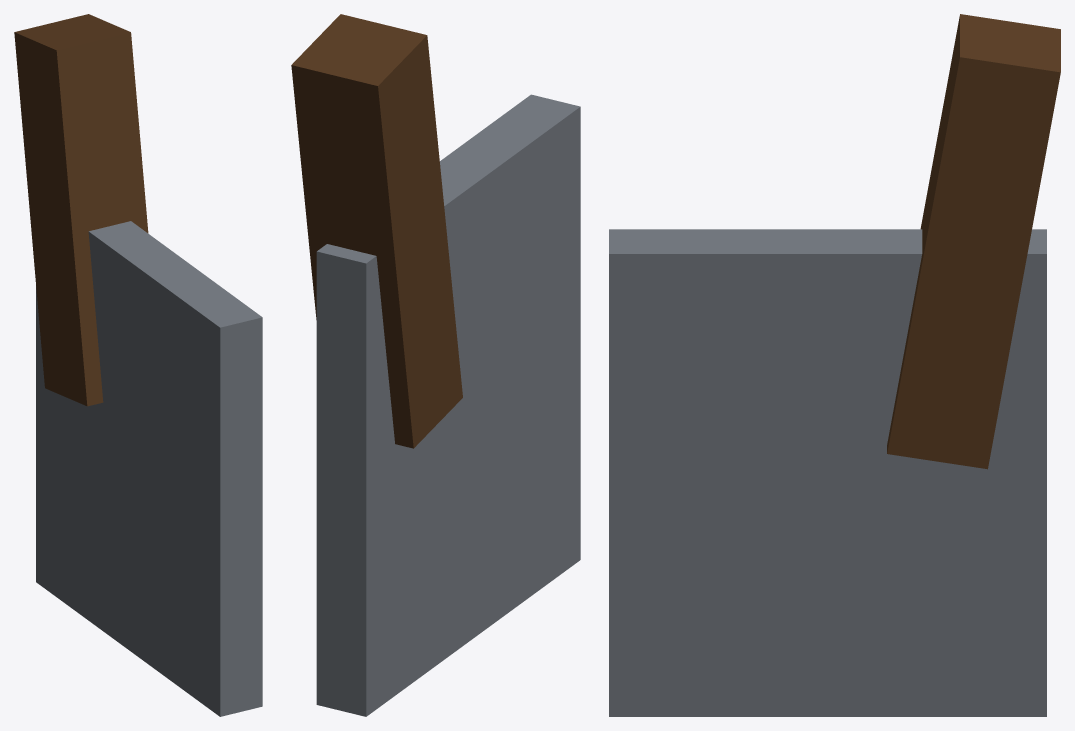
The model's file is tool_cleaver.glb.
3 views of the same model, side by side, from view 1: azimuth 30°, elevation 25°; view 2: azimuth 150°, elevation 25°; view 3: azimuth 270°, elevation 25° (orthographic). The views are drawn at different scales.
Parts seen in each view (by area): view 1: tool_cleaver; view 2: tool_cleaver; view 3: tool_cleaver.
Part boxes in pixels (x1=…): tool_cleaver: x1=14, y1=14, x2=262, y2=716; tool_cleaver: x1=291, y1=14, x2=580, y2=716; tool_cleaver: x1=609, y1=14, x2=1060, y2=716.
Bounding box in the file's own units: 0.014 × 0.1012 × 0.0619.
